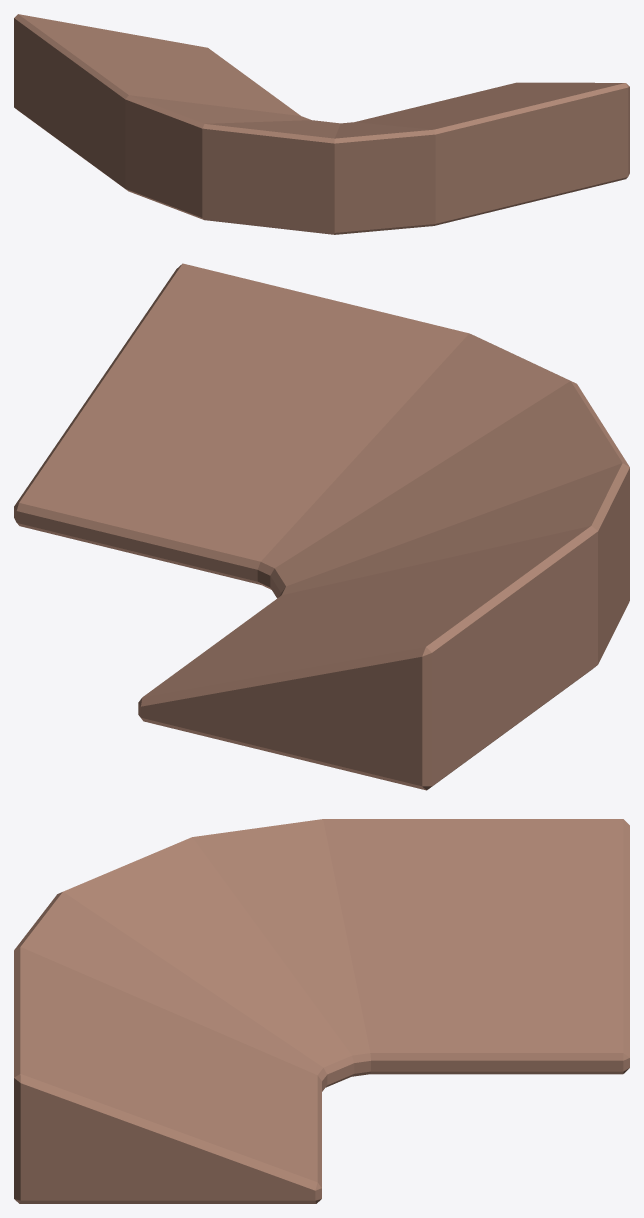
The model's file is mesh_lilCurvedRampMod.fbx.
3 views of the same model, one above another, from view 1: azimuth 30°, elevation 25°; view 2: azimuth 150°, elevation 25°; view 3: azimuth 270°, elevation 25° (orthographic). The views are drawn at different scales.
Parts seen in each view (by area): view 1: mesh_lilCurvedRampMod; view 2: mesh_lilCurvedRampMod; view 3: mesh_lilCurvedRampMod.
Boxes of the visible parts, x1,y1,x2,y2 form: mesh_lilCurvedRampMod: (14, 14, 629, 234); mesh_lilCurvedRampMod: (14, 263, 629, 790); mesh_lilCurvedRampMod: (14, 819, 629, 1203).
Bounding box in the file's own units: 10 × 2.33 × 10.
